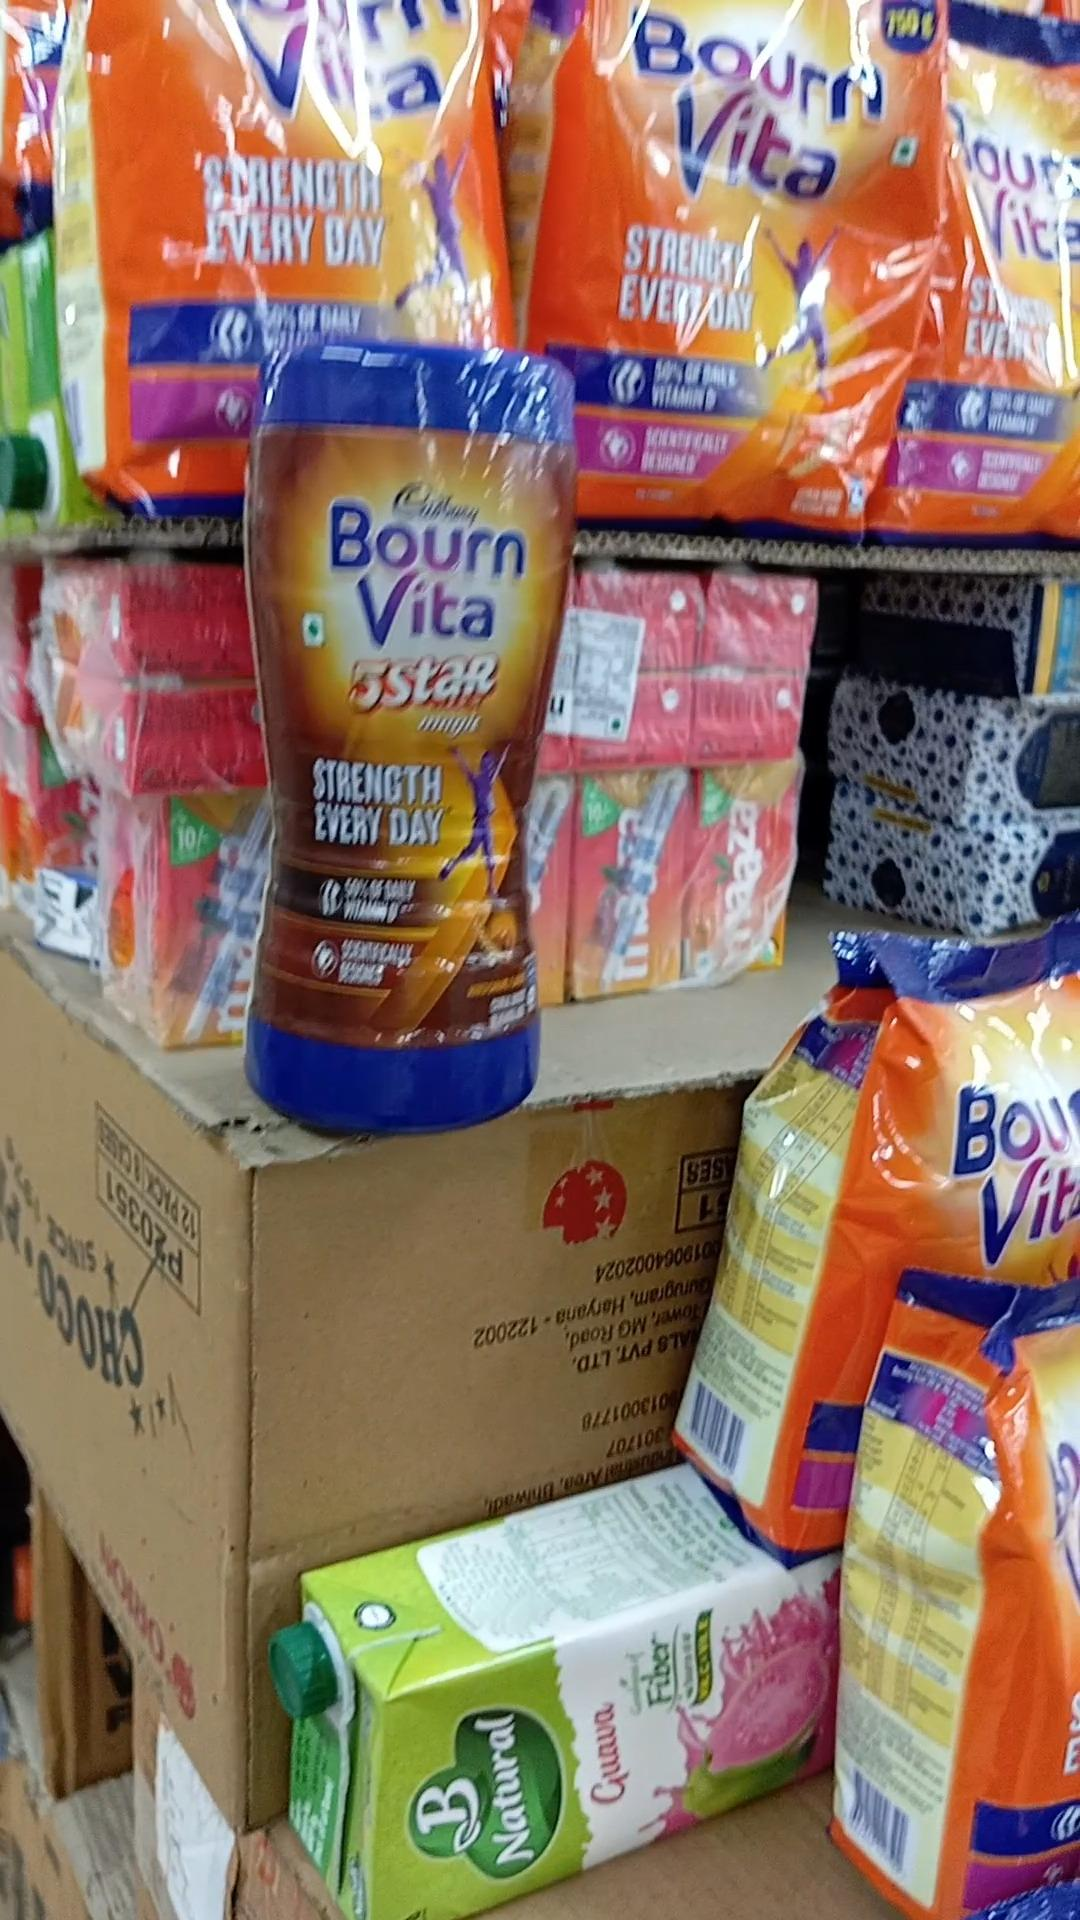BOURN_VITA_FIVE_STAR_MAGIC_500_G_JAR: (247, 326, 568, 1131)
